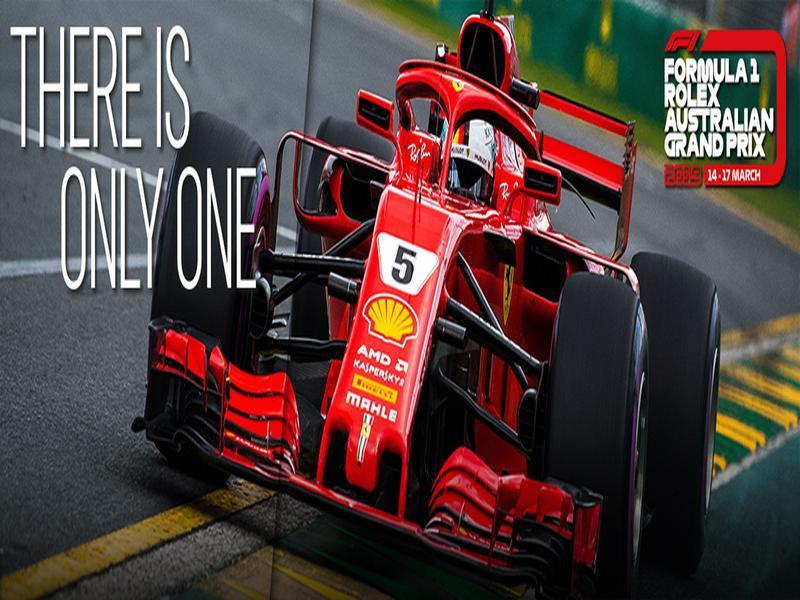f1: (147, 9, 716, 561)
